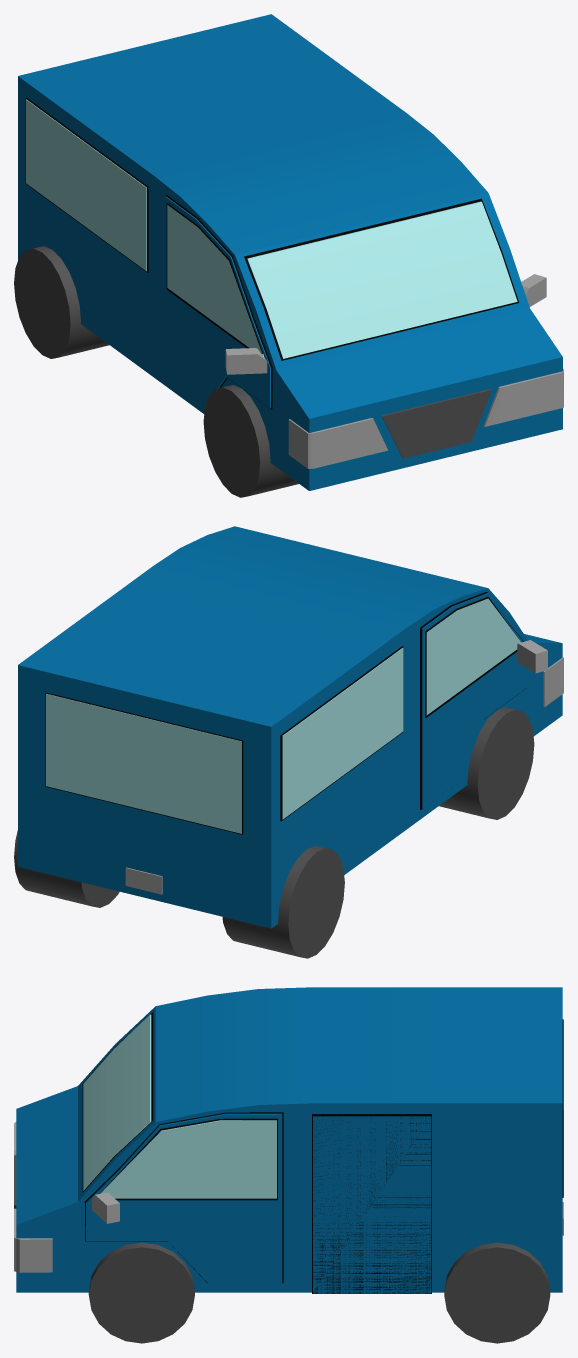
The model's file is Flymo.fbx.
3 renders of one model, top to bottom at view 1: azimuth 30°, elevation 25°; view 2: azimuth 150°, elevation 25°; view 3: azimuth 270°, elevation 25°, orthographic. The views are drawn at different scales.
Parts seen in each view (by area): view 1: kuruma1, f_mado, pCube18, doa1, pCylinder2, pCylinder8, mado1, pCube12, pCube14, pCube13, f_mado1, pCube8 (+4 smaller); view 2: kuruma1, pCube15, pCube18, doa1, pCylinder2, mado1, pCylinder8, pCylinder6, pCube16, pCube8, pCube14, pCube19 (+3 smaller); view 3: kuruma1, pCube2, doa3, pCube6, pCylinder6, pCylinder5, f_mado, pCube17, pCube13, pCube11, doa4, f_mado1 (+1 smaller).
Part boxes in pixels (x1,y1,x2,y2): kuruma1: [18, 14, 562, 490]; f_mado: [247, 201, 517, 358]; pCube18: [26, 99, 146, 271]; doa1: [165, 196, 270, 408]; pCylinder2: [14, 246, 109, 358]; pCylinder8: [203, 385, 298, 497]; mado1: [167, 205, 264, 357]; pCube12: [381, 389, 491, 458]; pCube14: [288, 418, 388, 468]; pCube13: [483, 368, 563, 426]; f_mado1: [244, 198, 519, 360]; pCube8: [225, 348, 267, 374]; kuruma1: [18, 526, 562, 928]; pCube15: [46, 693, 241, 833]; pCube18: [282, 648, 403, 819]; doa1: [422, 593, 527, 808]; pCylinder2: [222, 846, 344, 958]; mado1: [426, 598, 521, 715]; pCylinder8: [439, 707, 534, 819]; pCylinder6: [14, 830, 119, 907]; pCube16: [45, 692, 243, 834]; pCube8: [516, 640, 547, 673]; pCube14: [543, 657, 563, 707]; pCube19: [280, 646, 403, 821]; kuruma1: [16, 987, 562, 1292]; pCube2: [313, 1116, 431, 1293]; doa3: [86, 1113, 282, 1283]; pCube6: [100, 1120, 276, 1198]; pCylinder6: [444, 1242, 550, 1343]; pCylinder5: [88, 1242, 194, 1343]; f_mado: [83, 1014, 151, 1190]; pCube17: [312, 1114, 431, 1293]; pCube13: [14, 1208, 52, 1272]; pCube11: [100, 1118, 277, 1200]; doa4: [84, 1112, 283, 1283]; f_mado1: [82, 1012, 153, 1192].
Size of the model in its own units: 452 by 339 by 719.
